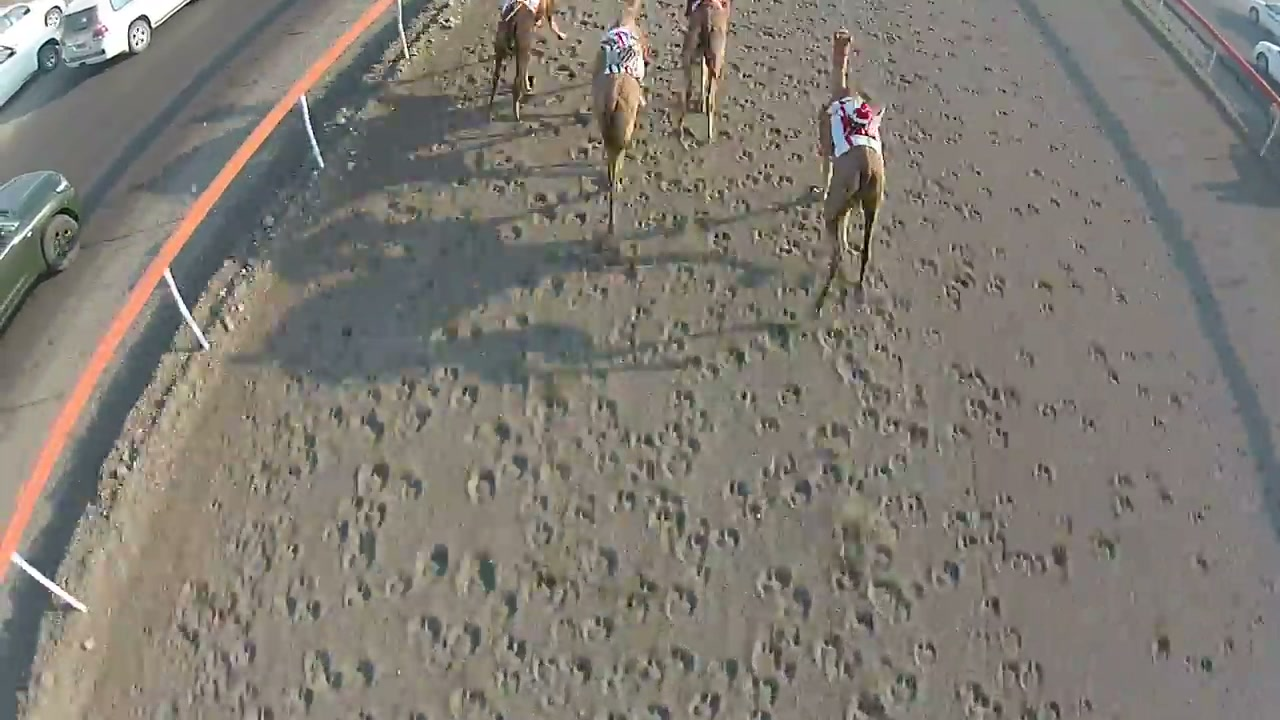animal_footprint: (29, 0, 1279, 719)
